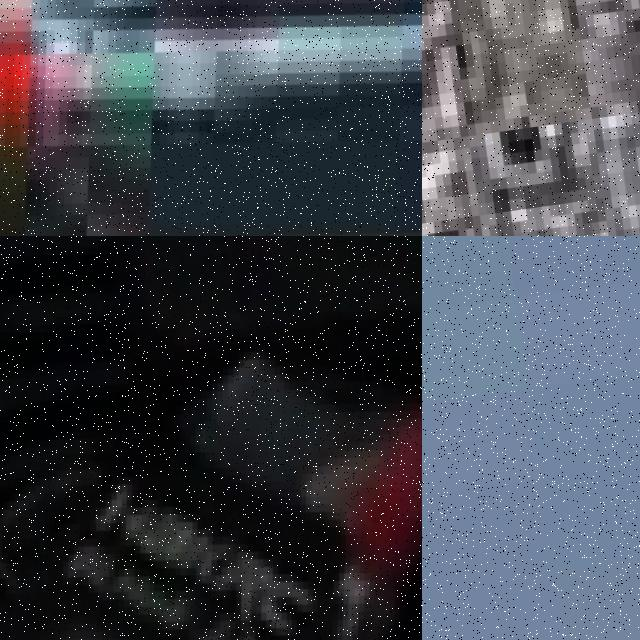0: (0, 0, 422, 236)
drone: (0, 236, 422, 640)
